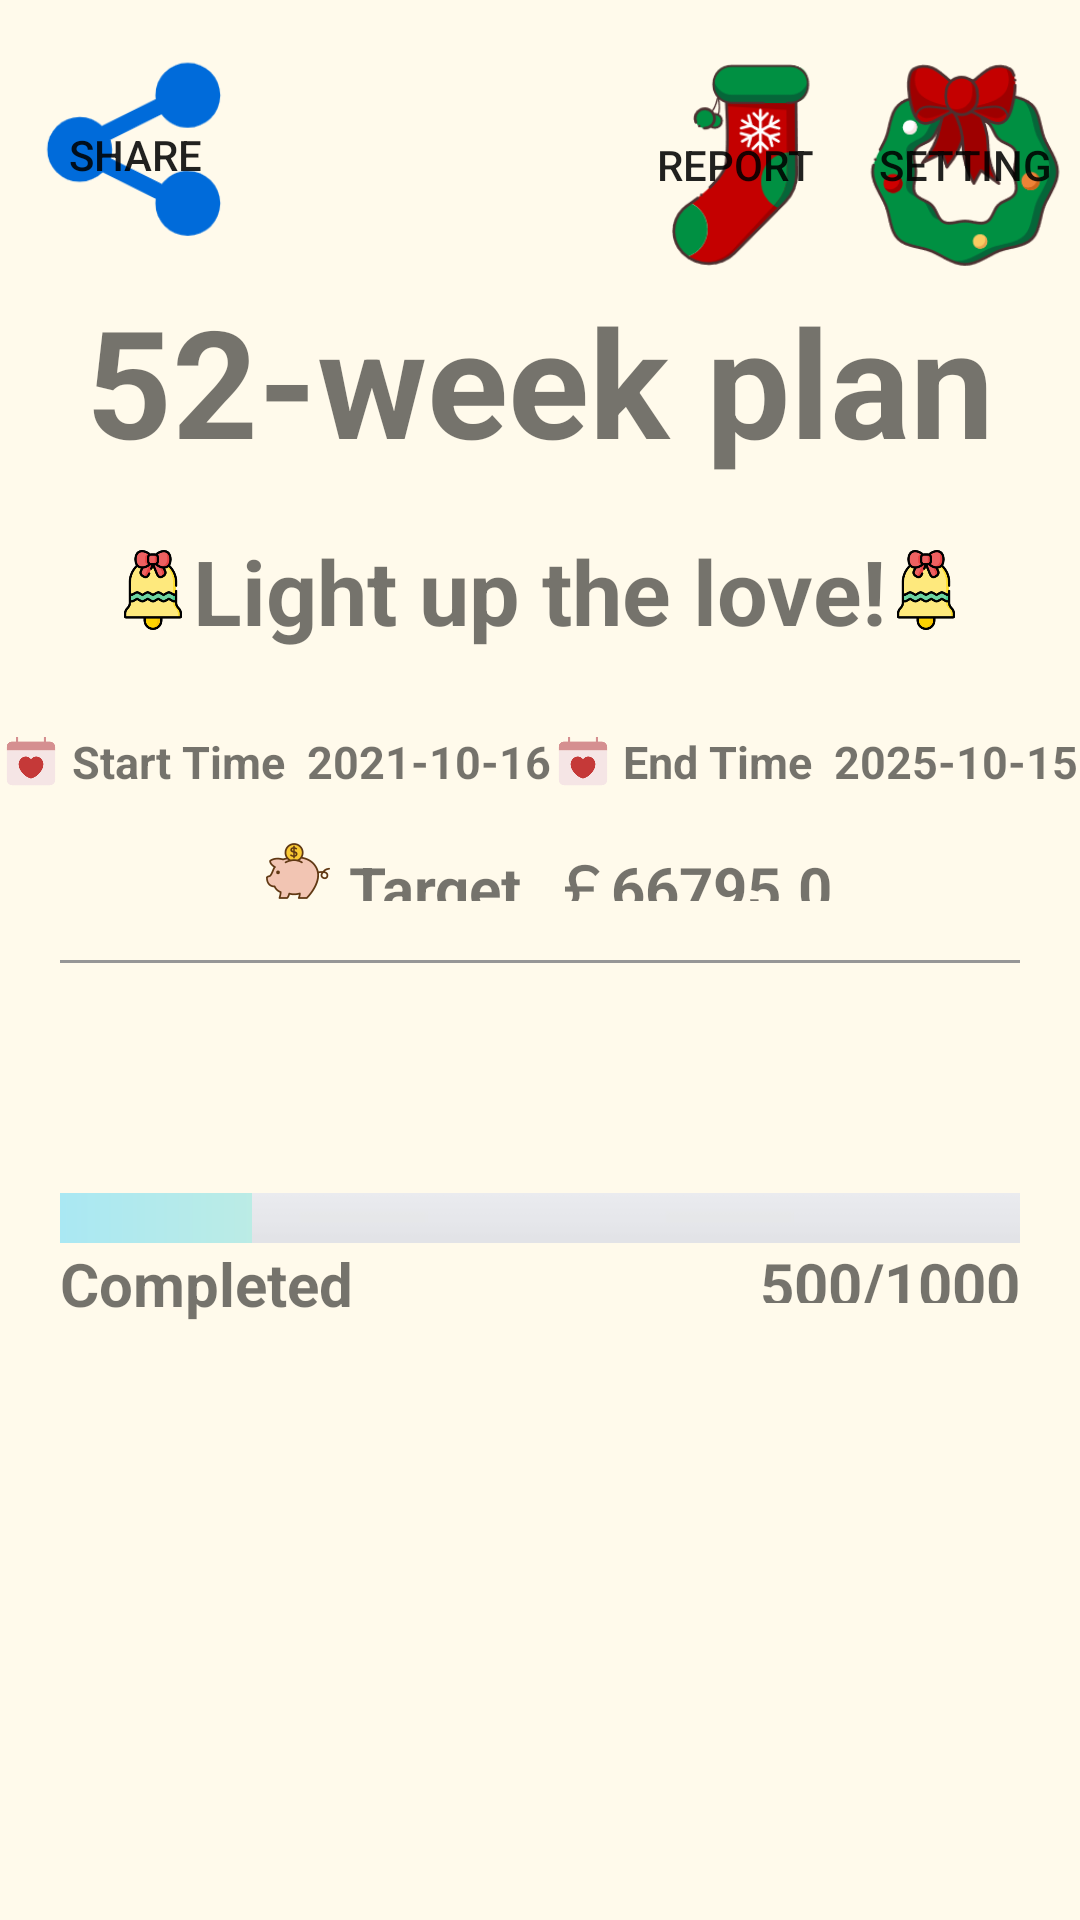

Icon click points for this 1080 x 1920 phone screenshot, format point (x, y):
pig: point (298, 871)
